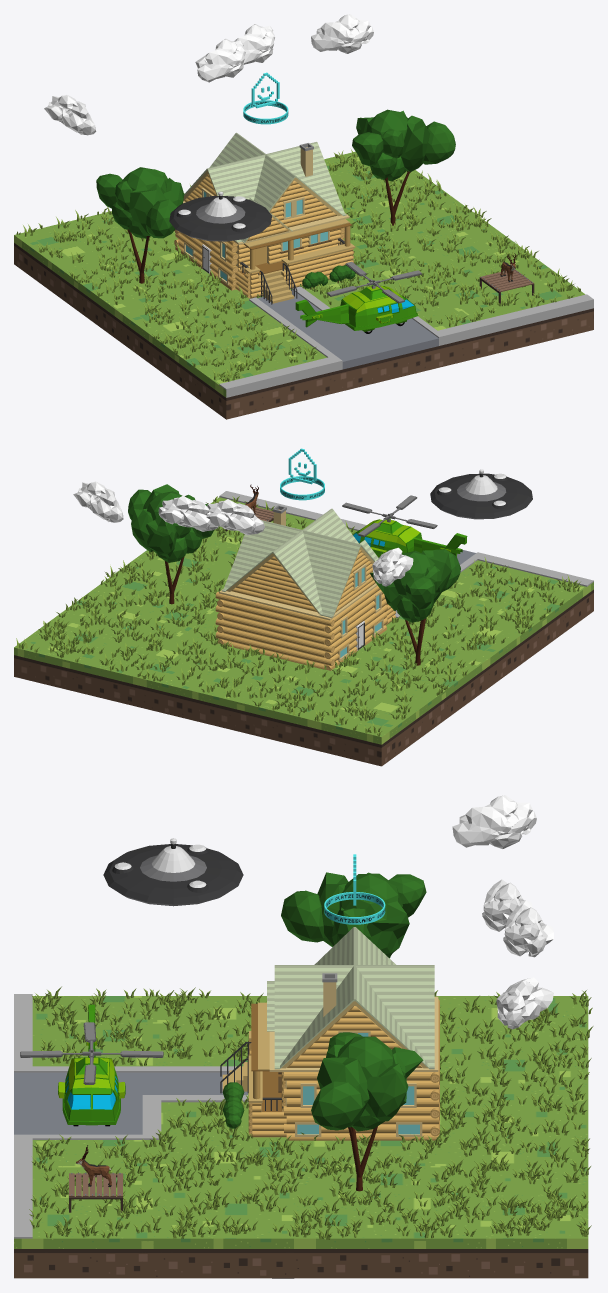
3 renders of one model, top to bottom at view 1: azimuth 30°, elevation 25°; view 2: azimuth 150°, elevation 25°; view 3: azimuth 270°, elevation 25°, orthographic. The views are drawn at different scales.
Visible parts, largest first — view 1: Cube.006, Cube.1516, Circle.012_Grass_0.192, Cube.007, tree, tree.001, VEHICLES_HELICOPTER, OBJRANDOM_UFO, TYPE_PREMIUM, Cube.009; view 2: Cube.006, Cube.1516, Circle.012_Grass_0.192, Cube.007, tree.001, tree, OBJRANDOM_UFO, VEHICLES_HELICOPTER, TYPE_PREMIUM; view 3: Cube.006, Circle.012_Grass_0.192, Cube.1516, tree, Cube.007, tree.001, OBJRANDOM_UFO, VEHICLES_HELICOPTER, Cube.009, TYPE_PREMIUM.
Part boxes in pixels (bbox=[...]): Cube.006: bbox=[14, 151, 593, 419]; Cube.1516: bbox=[174, 132, 355, 304]; Circle.012_Grass_0.192: bbox=[16, 149, 580, 381]; Cube.007: bbox=[44, 14, 373, 135]; tree: bbox=[352, 109, 455, 225]; tree.001: bbox=[96, 167, 184, 283]; VEHICLES_HELICOPTER: bbox=[295, 261, 422, 333]; OBJRANDOM_UFO: bbox=[169, 191, 271, 241]; TYPE_PREMIUM: bbox=[243, 72, 288, 124]; Cube.009: bbox=[479, 269, 534, 303]; Cube.006: bbox=[14, 491, 593, 766]; Cube.1516: bbox=[215, 505, 395, 670]; Circle.012_Grass_0.192: bbox=[16, 496, 580, 736]; Cube.007: bbox=[73, 481, 413, 586]; tree.001: bbox=[370, 549, 460, 665]; tree: bbox=[128, 484, 214, 604]; OBJRANDOM_UFO: bbox=[430, 469, 532, 519]; VEHICLES_HELICOPTER: bbox=[342, 495, 467, 557]; TYPE_PREMIUM: bbox=[280, 448, 324, 500]; Cube.006: bbox=[14, 994, 588, 1278]; Circle.012_Grass_0.192: bbox=[29, 986, 593, 1239]; Cube.1516: bbox=[220, 927, 439, 1140]; tree: bbox=[311, 1032, 423, 1191]; Cube.007: bbox=[452, 795, 553, 1029]; tree.001: bbox=[281, 872, 426, 958]; OBJRANDOM_UFO: bbox=[103, 838, 243, 906]; VEHICLES_HELICOPTER: bbox=[20, 1004, 163, 1126]; Cube.009: bbox=[69, 1172, 122, 1212]; TYPE_PREMIUM: bbox=[324, 854, 385, 924].
Size of the model in its own units: 4071 by 2308 by 4040.
40 materials, 5 textured.
